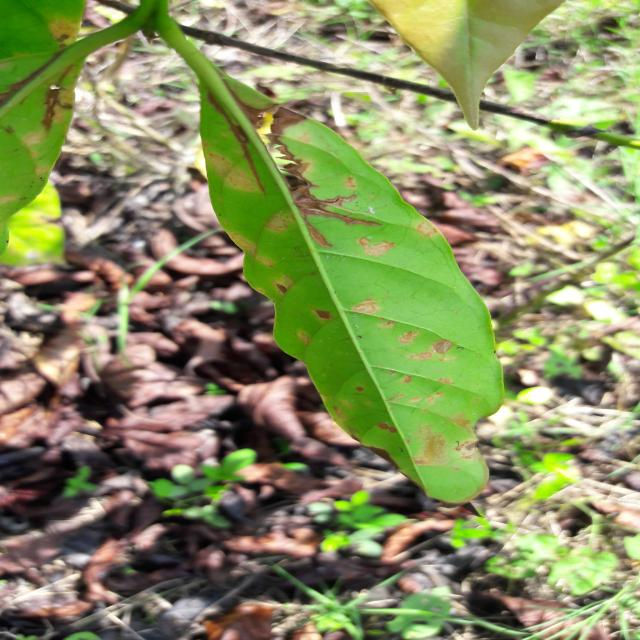Plaga-AranaRoja: (112, 0, 509, 507)
